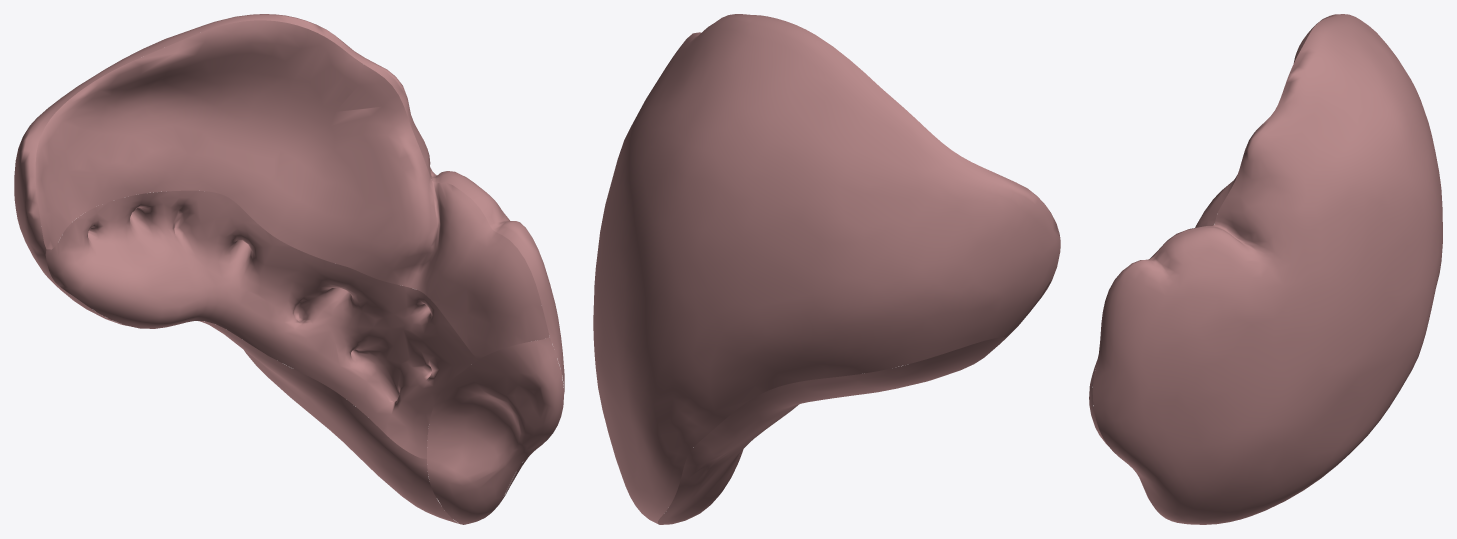
File: vh_m_spleen-40.glb
The picture shows the model from 3 angles, left to right: view 1: azimuth 30°, elevation 25°; view 2: azimuth 150°, elevation 25°; view 3: azimuth 270°, elevation 25°; orthographic projection. The views are drawn at different scales.
Visible parts, largest first — view 1: VH_M_gastric_surface_of_spleen, VH_M_hilum_of_spleen, VH_M_colic_surface_of_spleen, VH_M_diaphragmatic_surface_of_spleen, VH_M_renal_surface_of_spleen; view 2: VH_M_diaphragmatic_surface_of_spleen, VH_M_renal_surface_of_spleen; view 3: VH_M_diaphragmatic_surface_of_spleen, VH_M_gastric_surface_of_spleen.
Part boxes in pixels (box(x1,y1,x2,y2)): VH_M_gastric_surface_of_spleen: box(35, 20, 549, 359); VH_M_hilum_of_spleen: box(45, 190, 477, 458); VH_M_colic_surface_of_spleen: box(427, 337, 564, 524); VH_M_diaphragmatic_surface_of_spleen: box(14, 14, 564, 504); VH_M_renal_surface_of_spleen: box(51, 281, 459, 523); VH_M_diaphragmatic_surface_of_spleen: box(593, 14, 1060, 523); VH_M_renal_surface_of_spleen: box(658, 337, 1006, 524); VH_M_diaphragmatic_surface_of_spleen: box(1092, 14, 1442, 524); VH_M_gastric_surface_of_spleen: box(1148, 27, 1313, 259).
Bounding box in the file's own units: 0.1104 × 0.1186 × 0.0886.
